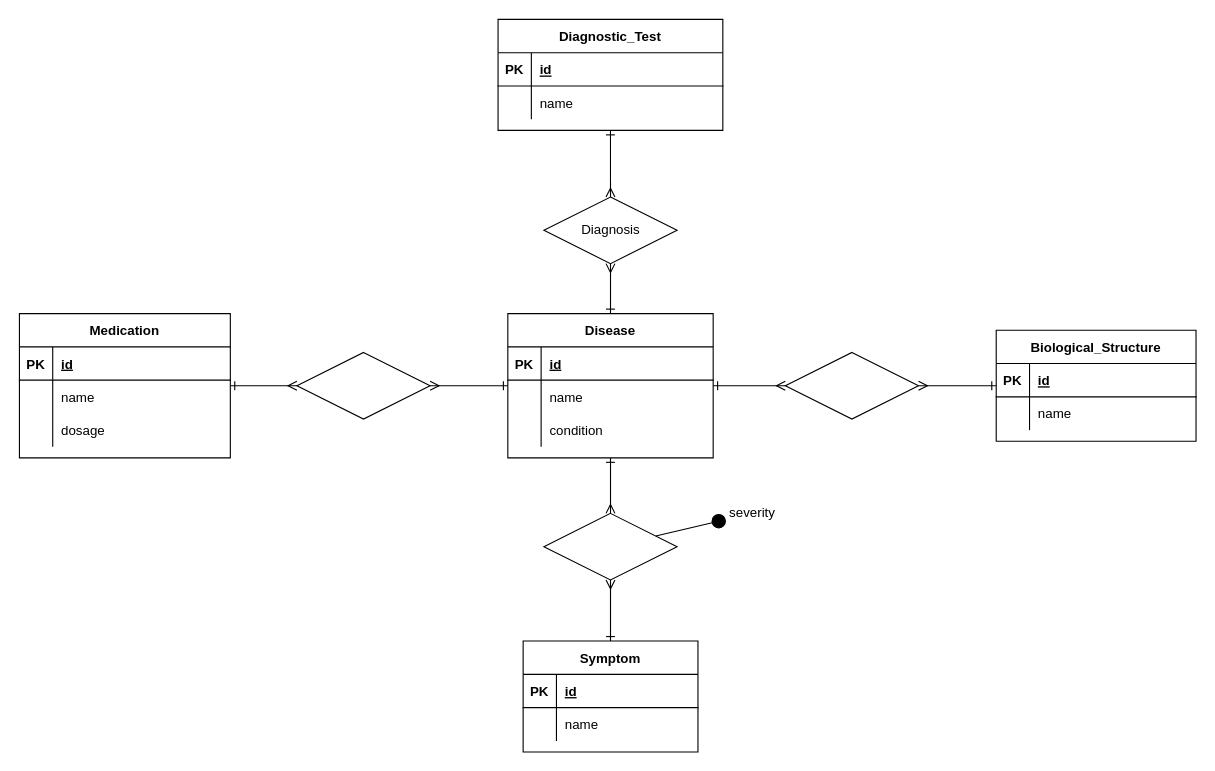
Some shapes in this 1215 by 771 pixel diagram are drawn without their labels. The centre of each missing label's shape, as x and y in pixels:
Involvement: (851,385)
Manifestation: (610,546)
Treatment: (363,385)
